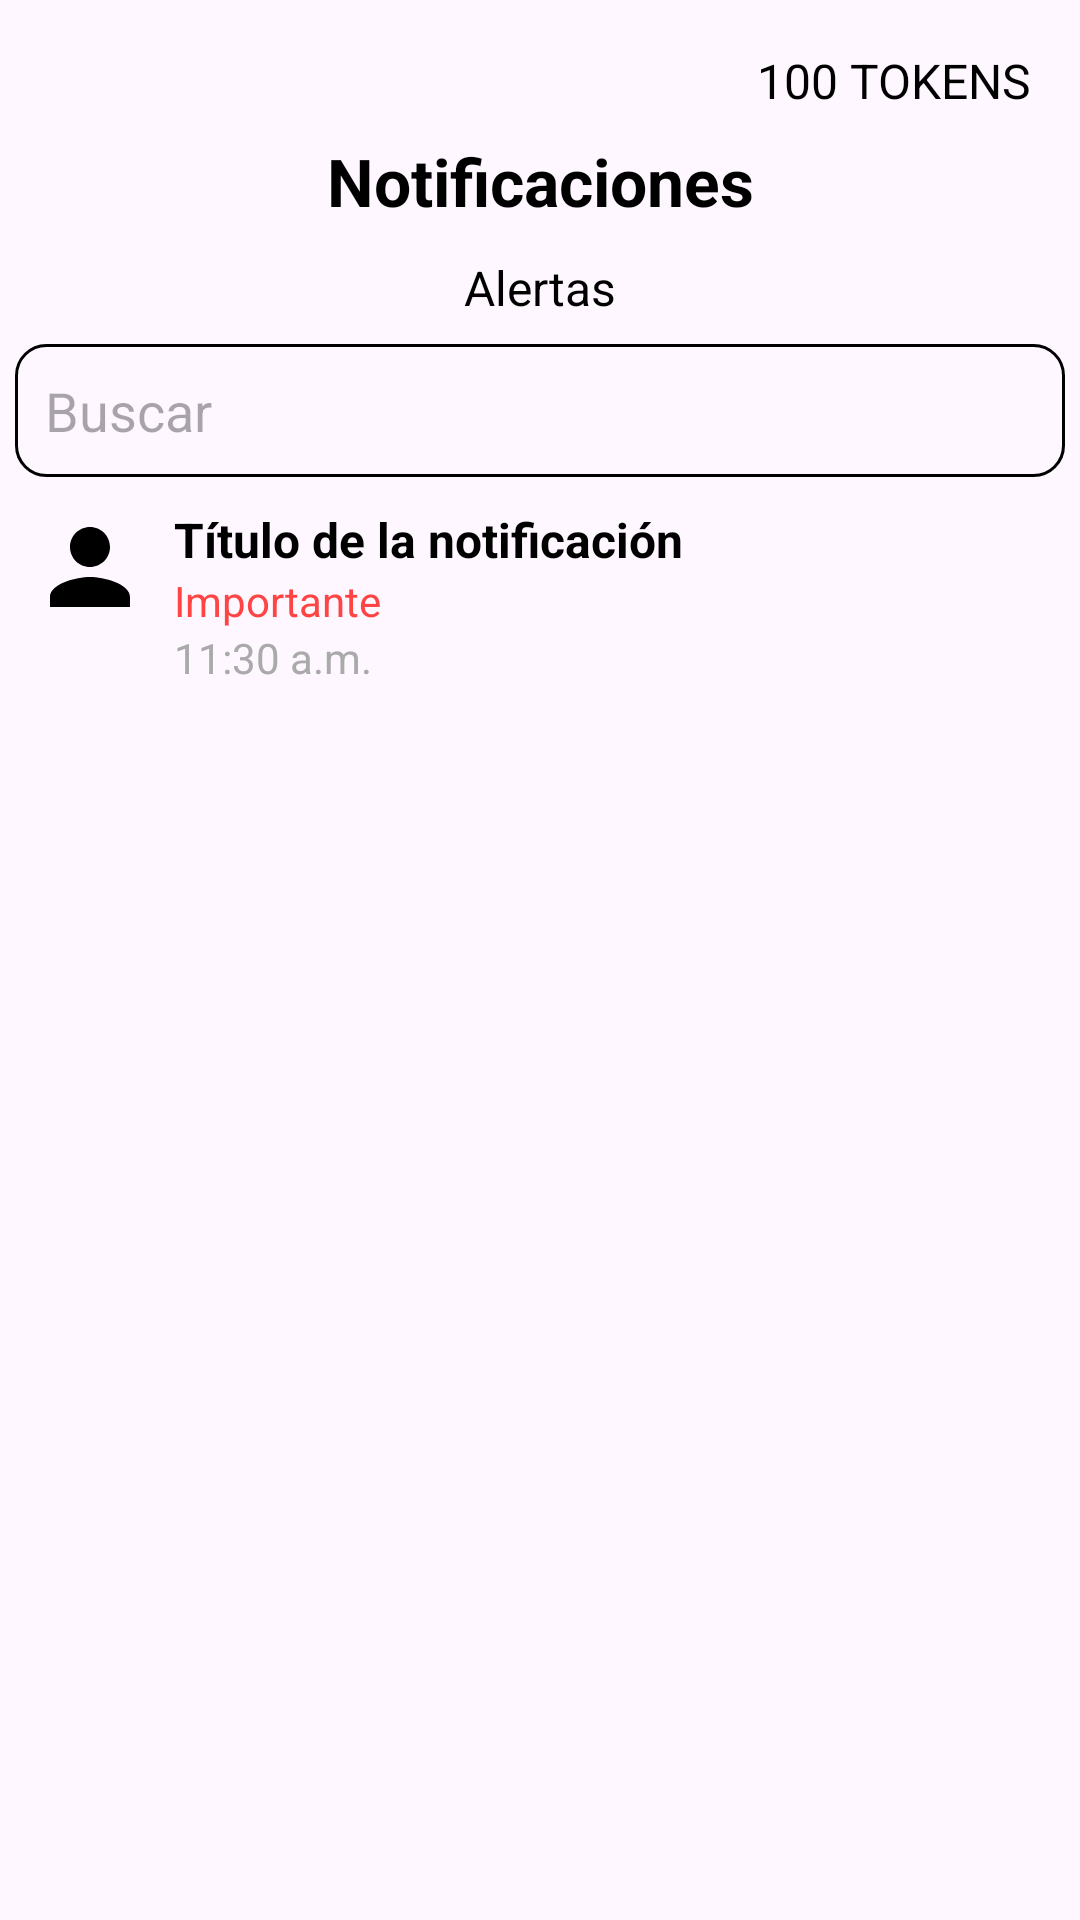

Named icons in this screenshot (1080 x 1920) and their centers, (x=x, y=y):
person: (x=90, y=567)
